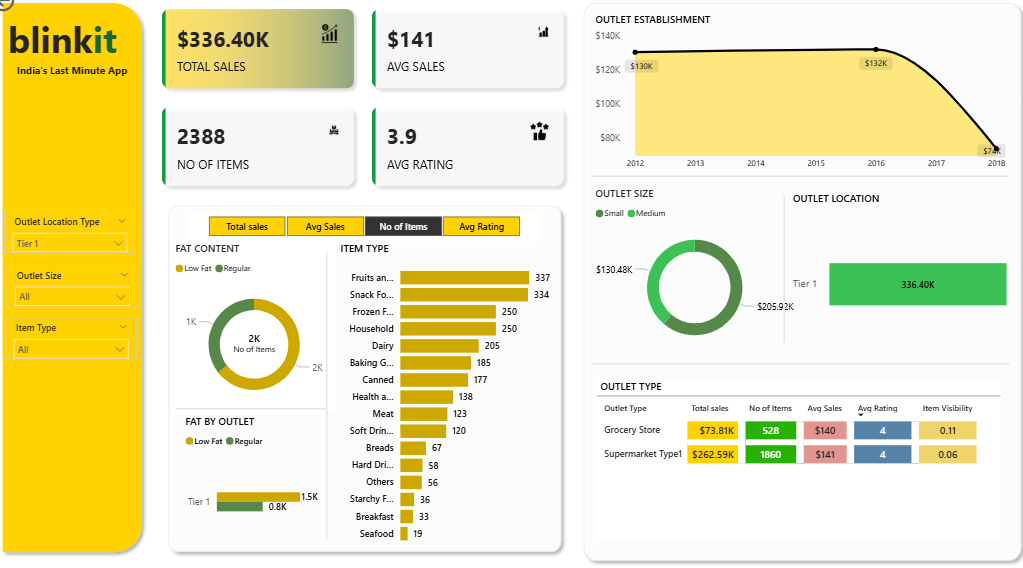

What the dashboard file says about the page in this screenshot:
{"tool":"powerbi","page":{"name":"Page 1","canvas":[1400,800],"ordinal":0},"visuals":[{"type":"shape","box":[10.5,15,204.1,750.4],"z":0},{"type":"textbox","box":[33,100.6,181.6,31.5],"z":1000},{"type":"textbox","box":[21,33,175.6,84],"z":2000},{"type":"cardVisual","fields":{"Data":["BlinkIT Grocery Data.Total sales","BlinkIT Grocery Data.Avg Sales","BlinkIT Grocery Data.No of Items","BlinkIT Grocery Data.Avg Rating"]},"box":[214.6,15,570.3,270.2],"z":3000},{"type":"shape","box":[231.7,285,541.7,480],"z":4000},{"type":"donutChart","title":"FAT CONTENT","fields":{"Y":["BlinkIT Grocery Data.No of Items"],"Category":["BlinkIT Grocery Data.Item Fat Content"]},"box":[245,341.7,220,230],"z":5000},{"type":"slicer","fields":{"Values":["Metrics.Metrics"]},"box":[268.3,301.7,465,40],"z":6000},{"type":"cardVisual","fields":{"Data":["BlinkIT Grocery Data.No of Items"]},"box":[295,428.3,120,96.7],"z":7000},{"type":"clusteredBarChart","title":"FAT BY OUTLET","fields":{"Y":["BlinkIT Grocery Data.No of Items"],"Category":["BlinkIT Grocery Data.Outlet Location Type"],"Series":["BlinkIT Grocery Data.Item Fat Content"]},"box":[258.3,571.7,186.7,183.3],"z":8000},{"type":"shape","box":[250,558.3,201.7,13.3],"z":9000},{"type":"shape","box":[445,356.7,13.3,381.7],"z":10000},{"type":"barChart","title":"ITEM TYPE","fields":{"Y":["BlinkIT Grocery Data.No of Items"],"Category":["BlinkIT Grocery Data.Item Type"]},"box":[465,341.7,290,413.3],"z":11000},{"type":"shape","box":[785,15,601.7,761.7],"z":12000},{"type":"lineChart","title":"OUTLET ESTABLISHMENT","fields":{"Y":["BlinkIT Grocery Data.Total sales"],"Category":["BlinkIT Grocery Data.Outlet Establishment Year"]},"box":[805,36.7,556.7,218.3],"z":13000},{"type":"shape","box":[805,241.7,556.7,26.7],"z":14000},{"type":"donutChart","title":"OUTLET SIZE","fields":{"Y":["BlinkIT Grocery Data.Total sales"],"Category":["BlinkIT Grocery Data.Outlet Size"]},"box":[805,268.3,275,225],"z":15000},{"type":"shape","box":[1055,281.7,13.3,195],"z":16000},{"type":"funnel","title":"OUTLET LOCATION","fields":{"Category":["BlinkIT Grocery Data.Outlet Location Type"],"Y":["Sum(BlinkIT Grocery Data.Sales)"]},"box":[1068.3,275,300,230],"z":17000},{"type":"shape","box":[805,498.3,556.7,13.3],"z":18000},{"type":"pivotTable","title":"OUTLET TYPE","fields":{"Rows":["BlinkIT Grocery Data.Outlet Type"],"Values":["BlinkIT Grocery Data.Total sales","BlinkIT Grocery Data.No of Items","BlinkIT Grocery Data.Avg Sales","BlinkIT Grocery Data.Avg Rating","Avg(BlinkIT Grocery Data.Item Visibility)"]},"box":[811.7,525,538.3,213.3],"z":19000},{"type":"actionButton","box":[0,0,100,40],"z":20000},{"type":"slicer","fields":{"Values":["BlinkIT Grocery Data.Outlet Location Type"]},"box":[21.7,301.7,175,55],"z":20001},{"type":"slicer","fields":{"Values":["BlinkIT Grocery Data.Outlet Size"]},"box":[25,373.3,175,55],"z":20002},{"type":"slicer","fields":{"Values":["BlinkIT Grocery Data.Item Type"]},"box":[23.3,443.3,175,55],"z":20003}]}

Visuals, with their boxes in screenshot pixels (x1, y1, x2, y2), scaled from the page's 1400x800 canvas onto the 1023x568 screenshot:
shape: [x1=8, y1=11, x2=157, y2=543]
textbox: [x1=24, y1=71, x2=157, y2=94]
textbox: [x1=15, y1=23, x2=144, y2=83]
cardVisual - BlinkIT Grocery Data.Total sales x BlinkIT Grocery Data.Avg Sales: [x1=157, y1=11, x2=574, y2=202]
shape: [x1=169, y1=202, x2=565, y2=543]
"FAT CONTENT" donutChart: [x1=179, y1=243, x2=340, y2=406]
slicer - Metrics.Metrics: [x1=196, y1=214, x2=536, y2=243]
cardVisual - BlinkIT Grocery Data.No of Items: [x1=216, y1=304, x2=303, y2=373]
"FAT BY OUTLET" clusteredBarChart: [x1=189, y1=406, x2=325, y2=536]
shape: [x1=183, y1=396, x2=330, y2=406]
shape: [x1=325, y1=253, x2=335, y2=524]
"ITEM TYPE" barChart: [x1=340, y1=243, x2=552, y2=536]
shape: [x1=574, y1=11, x2=1013, y2=551]
"OUTLET ESTABLISHMENT" lineChart: [x1=588, y1=26, x2=995, y2=181]
shape: [x1=588, y1=172, x2=995, y2=191]
"OUTLET SIZE" donutChart: [x1=588, y1=190, x2=789, y2=350]
shape: [x1=771, y1=200, x2=781, y2=338]
"OUTLET LOCATION" funnel: [x1=781, y1=195, x2=1000, y2=359]
shape: [x1=588, y1=354, x2=995, y2=363]
"OUTLET TYPE" pivotTable: [x1=593, y1=373, x2=986, y2=524]
actionButton: [x1=0, y1=0, x2=73, y2=28]
slicer - BlinkIT Grocery Data.Outlet Location Type: [x1=16, y1=214, x2=144, y2=253]
slicer - BlinkIT Grocery Data.Outlet Size: [x1=18, y1=265, x2=146, y2=304]
slicer - BlinkIT Grocery Data.Item Type: [x1=17, y1=315, x2=145, y2=354]
